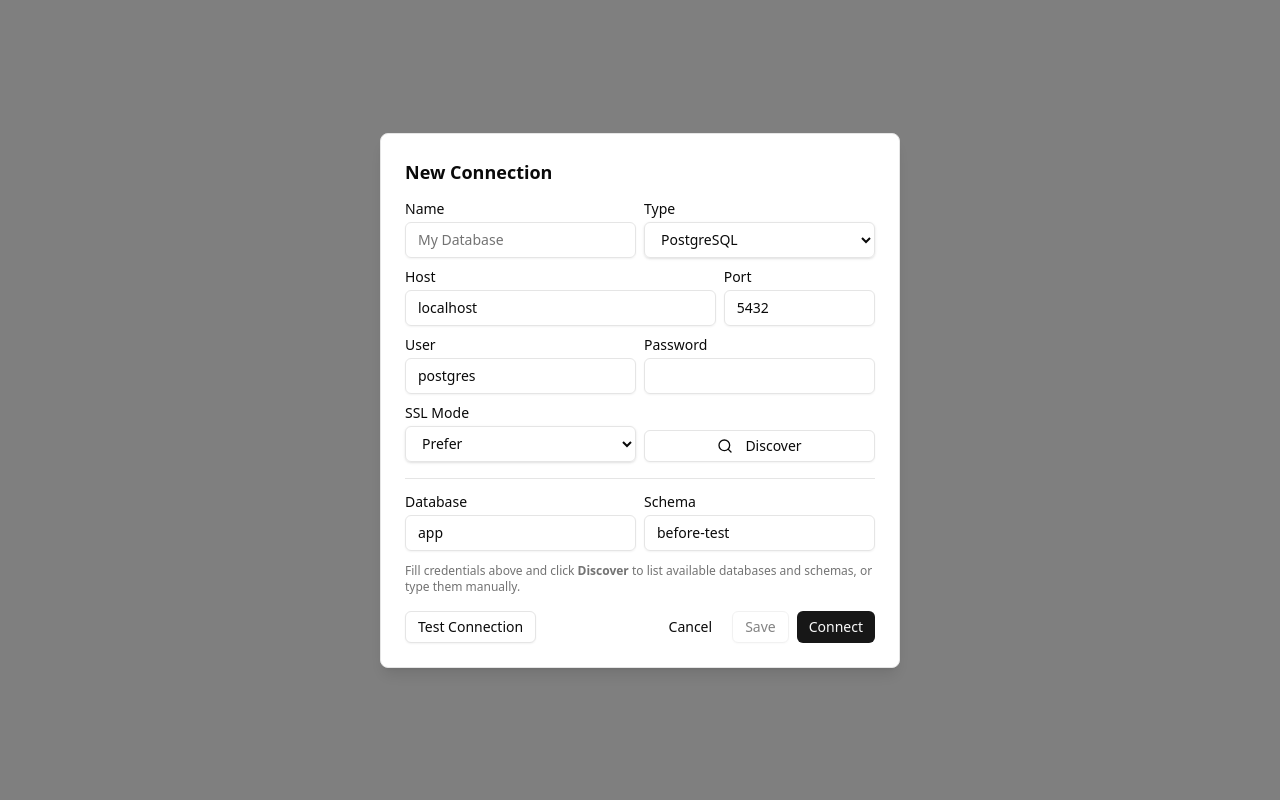
Test: ConnectionDialog SSL modes › ignores a schema response that resolves after starting a test
The width and height of the screenshot is (1280, 800).
Click the button "Discover": (760, 446) x1=644 y1=430 x2=875 y2=462
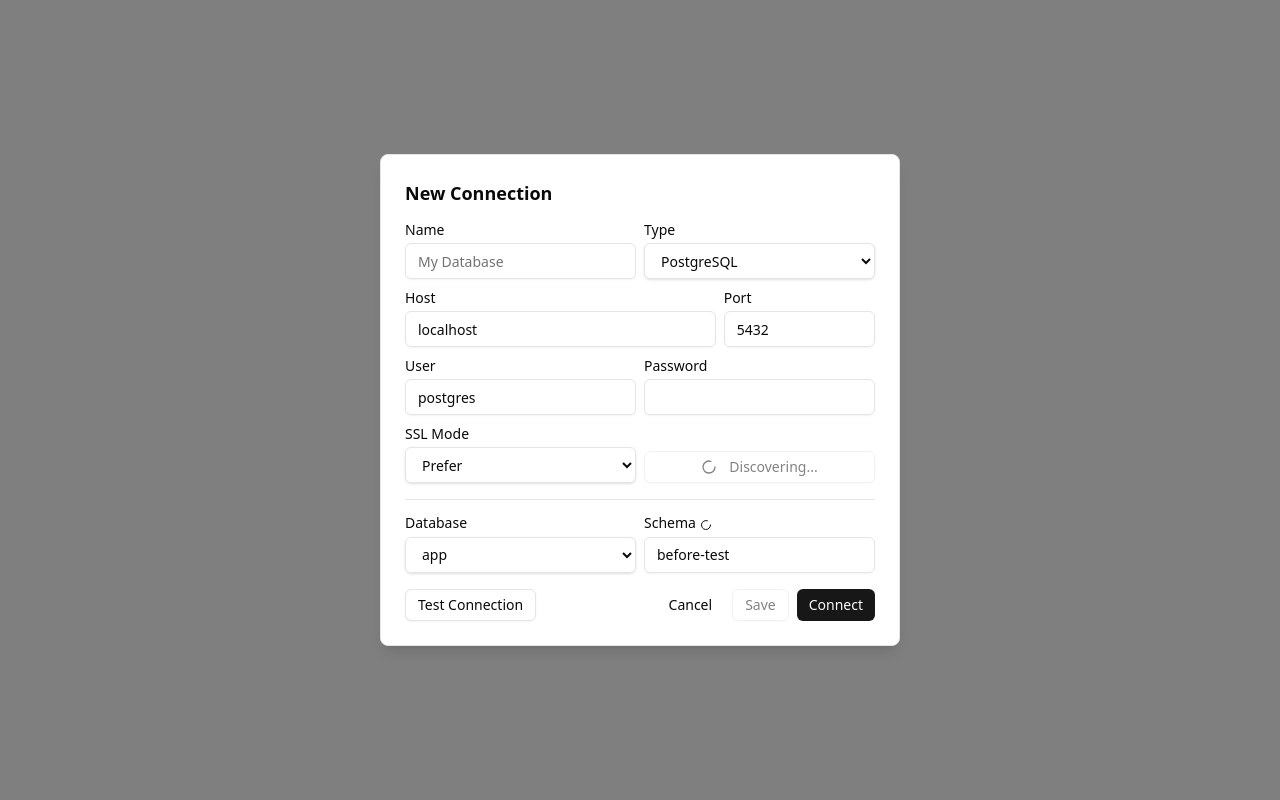
Click the button "Test Connection": (471, 605) x1=405 y1=589 x2=536 y2=621
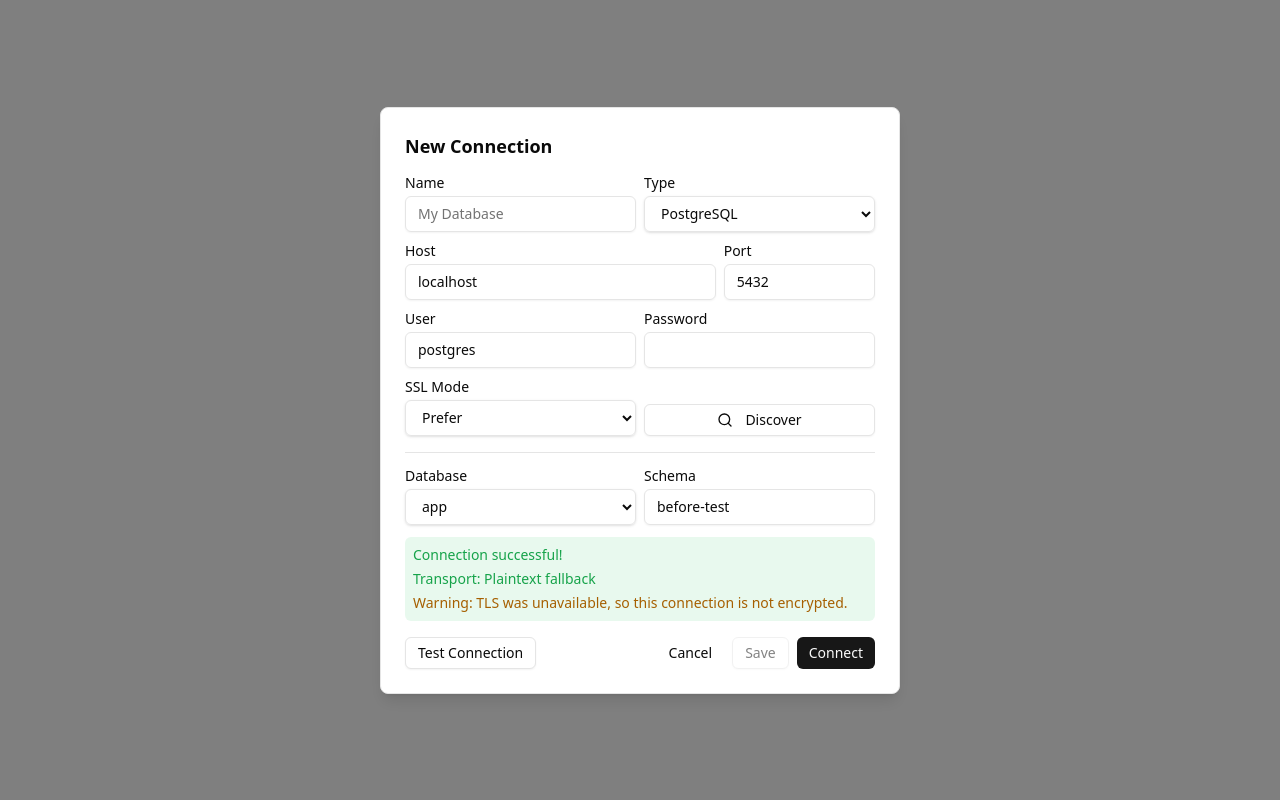
Expected: the field labelled "Schema" holds "before-test", x1=644 y1=488 x2=875 y2=524
Expected: the text "Transport: Plaintext fallback" is shown, x1=413 y1=568 x2=596 y2=588
